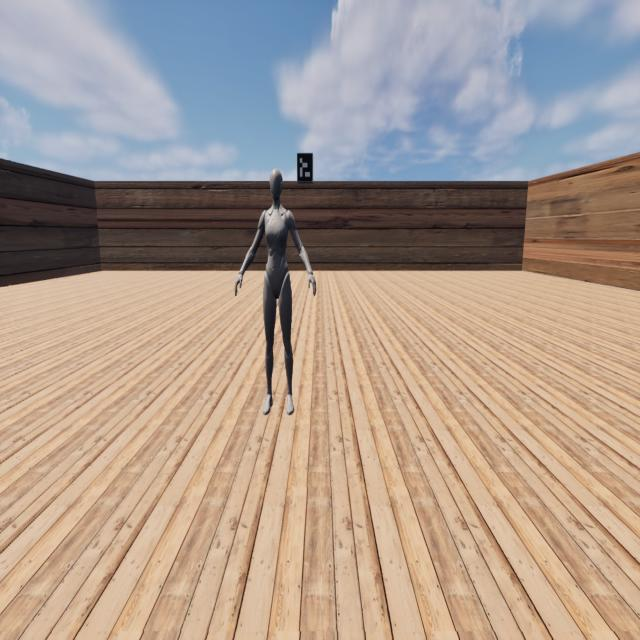aruco: (297, 153, 313, 182)
hip: (263, 272, 291, 284)
